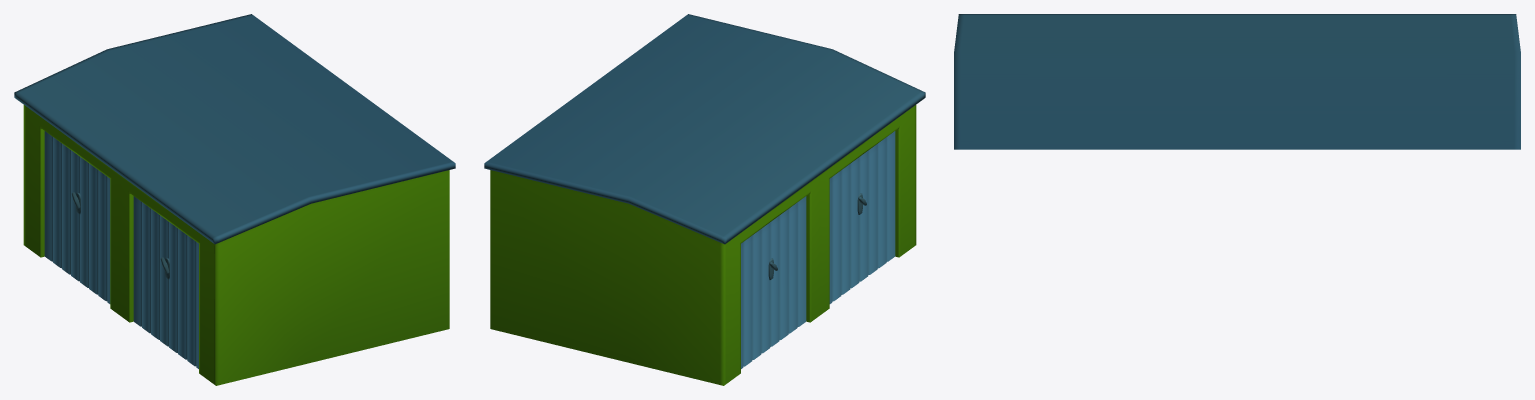
File: Garage05Night.glb
The picture shows the model from 3 angles, left to right: view 1: azimuth 30°, elevation 25°; view 2: azimuth 150°, elevation 25°; view 3: azimuth 270°, elevation 25°; orthographic projection. The views are drawn at different scales.
Parts seen in each view (by area): view 1: Garage05Night; view 2: Garage05Night; view 3: Garage05Night.
Part boxes in pixels (bbox=[...]): Garage05Night: bbox=[14, 14, 455, 385]; Garage05Night: bbox=[484, 14, 925, 385]; Garage05Night: bbox=[954, 14, 1520, 149].
Bounding box in the file's own units: 7.84 × 5.33 × 11.59.
2 materials, 1 textured.
